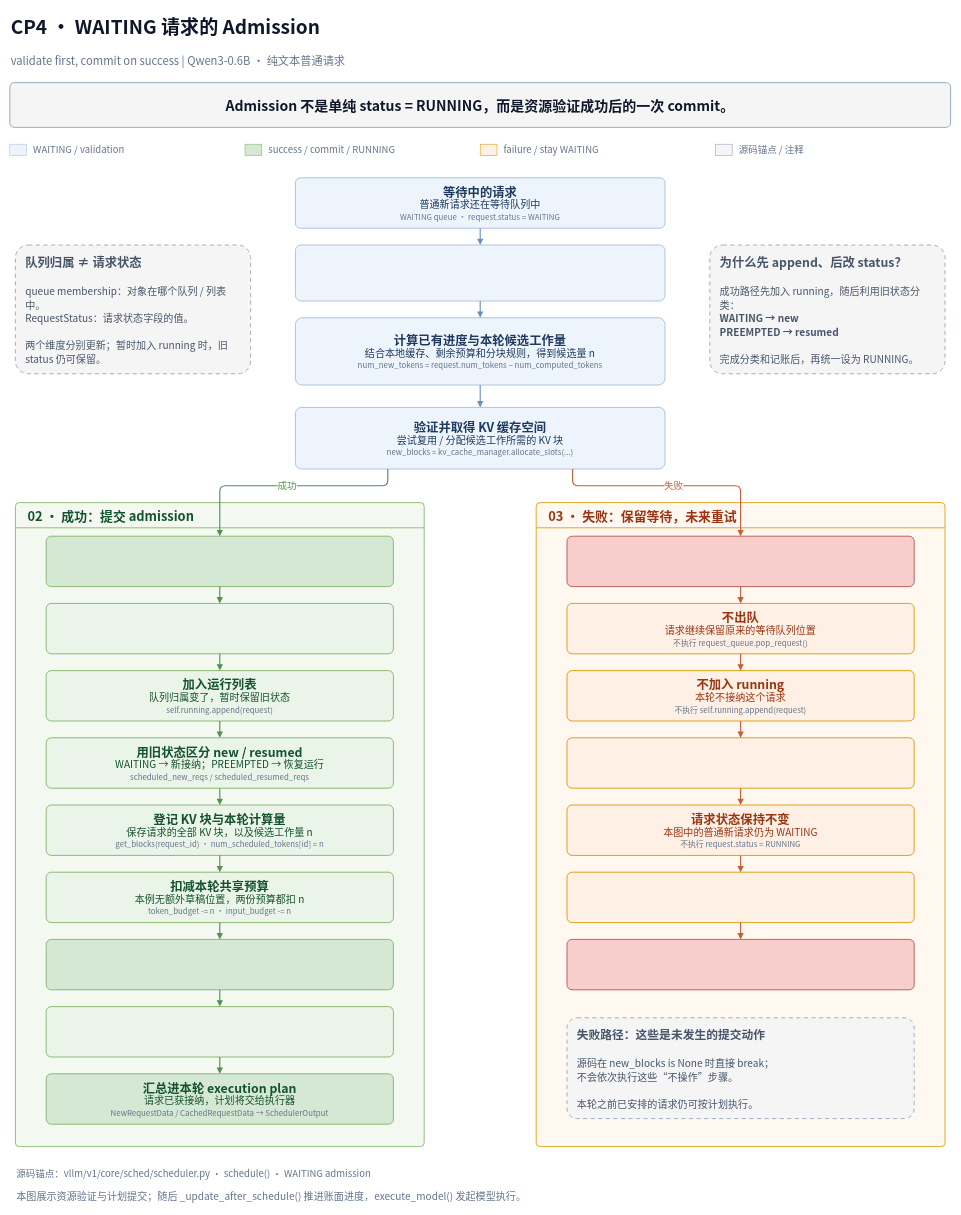
This 961x1215 diagram has some shape labels left out. The shapes that lost their labels are listed below. From the top down, each one's centre as x and y in pixels, then its label:
At point (480, 272): "查看队头，尚未出队 选中一个候选请求，保留其队列位置 request = request_queue.peek_request()".
At point (219, 561): "KV 分配成功 资源条件通过，可以开始提交 new_blocks is not None".
At point (740, 561): "KV 分配失败 候选工作量未通过容量验证 allocate_slots() returns None".
At point (219, 628): "从等待队列出队 此刻才真正移除队头请求 request = request_queue.pop_request()".
At point (740, 762): "不扣减预算 本次失败不占用候选工作量对应的预算 token_budget / input_budget 不扣减".
At point (740, 897): "停止本轮等待队列扫描 结束当前 WAITING admission 循环 break".
At point (219, 964): "状态改为 RUNNING 完成分类与计划记账后，更新状态字段 request.status = RequestStatus.RUNNING".
At point (740, 964): "留在等待队列，未来轮次重试 后续 schedule() 再次检查资源条件 WAITING queue · retry on a later iteration".
At point (219, 1031): "同步本轮计算的起始进度 记录缓存复用后，本轮从哪里开始计算 request.num_computed_tokens = num_computed_tokens".
